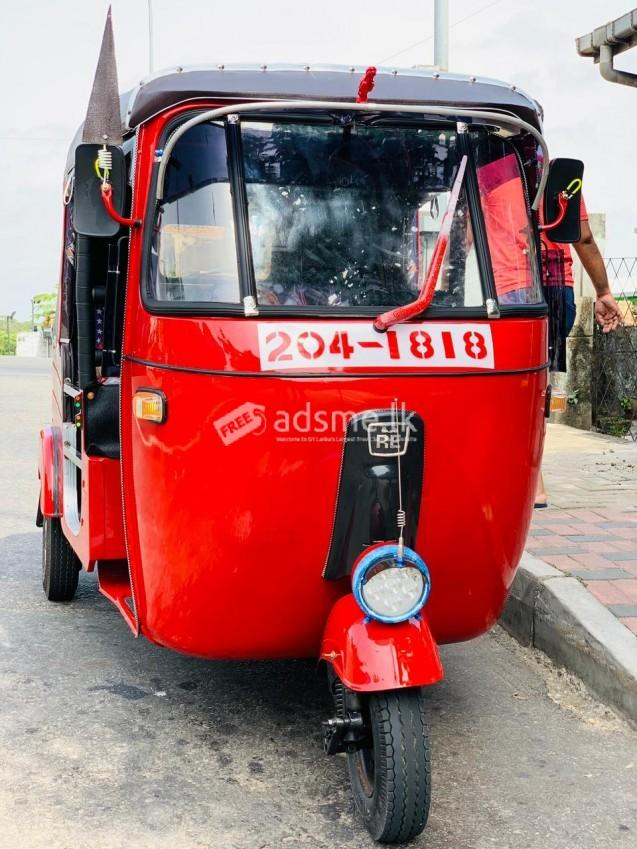threewheel: (35, 62, 583, 844)
